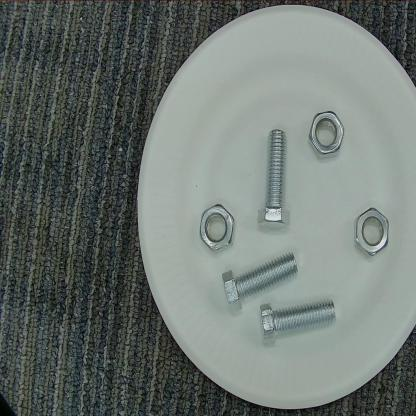FOD: (220, 252, 302, 318), (255, 126, 292, 235), (257, 298, 338, 346), (352, 202, 391, 263), (305, 106, 346, 162), (198, 200, 234, 256)
